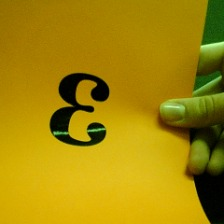orange3: (43, 68, 115, 151)
